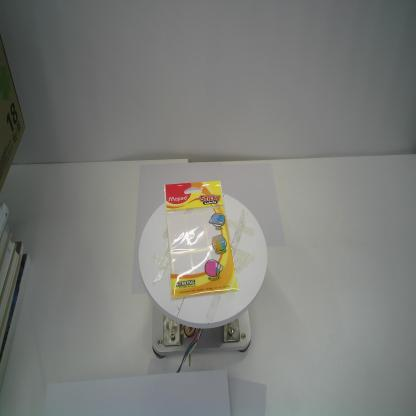Stationery: (163, 177, 241, 301)
